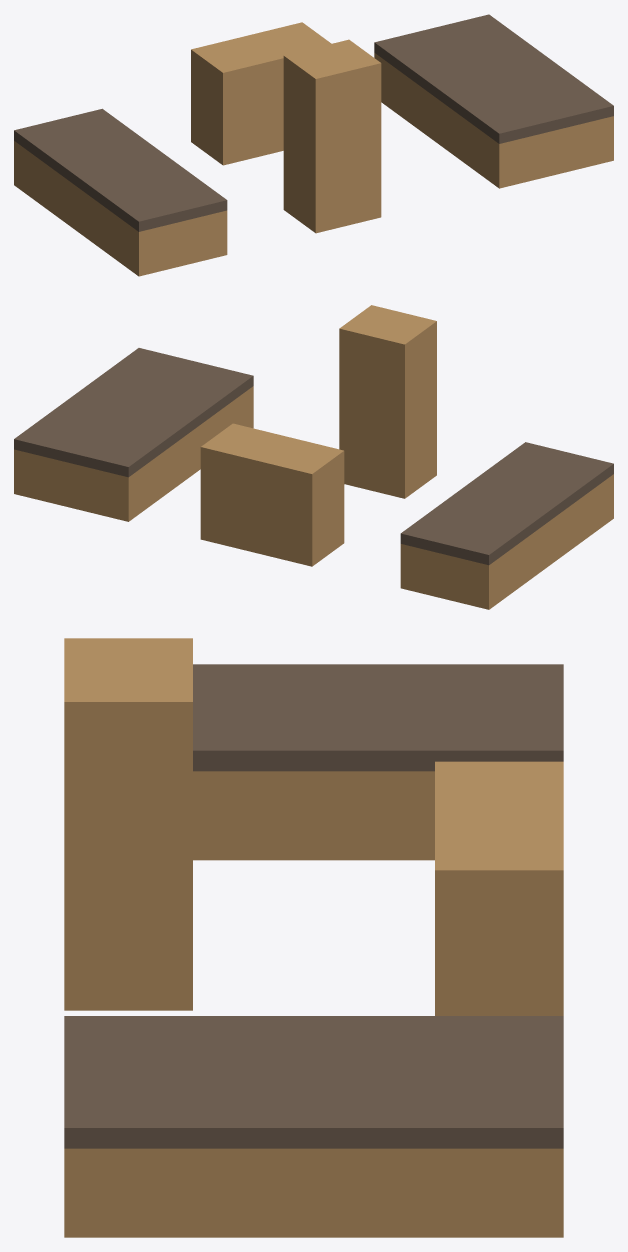
The model's file is caravan_furniture.glb.
3 views of the same model, one above another, from view 1: azimuth 30°, elevation 25°; view 2: azimuth 150°, elevation 25°; view 3: azimuth 270°, elevation 25° (orthographic). The views are drawn at different scales.
Visible parts, largest first — view 1: body:compound; view 2: body:compound; view 3: body:compound.
Boxes of the visible parts, <box> form: body:compound: <box>14,14,613,276</box>; body:compound: <box>14,305,613,609</box>; body:compound: <box>64,638,563,1237</box>.
Bounding box in the file's own units: 4.53 × 1.41 × 2.06.
